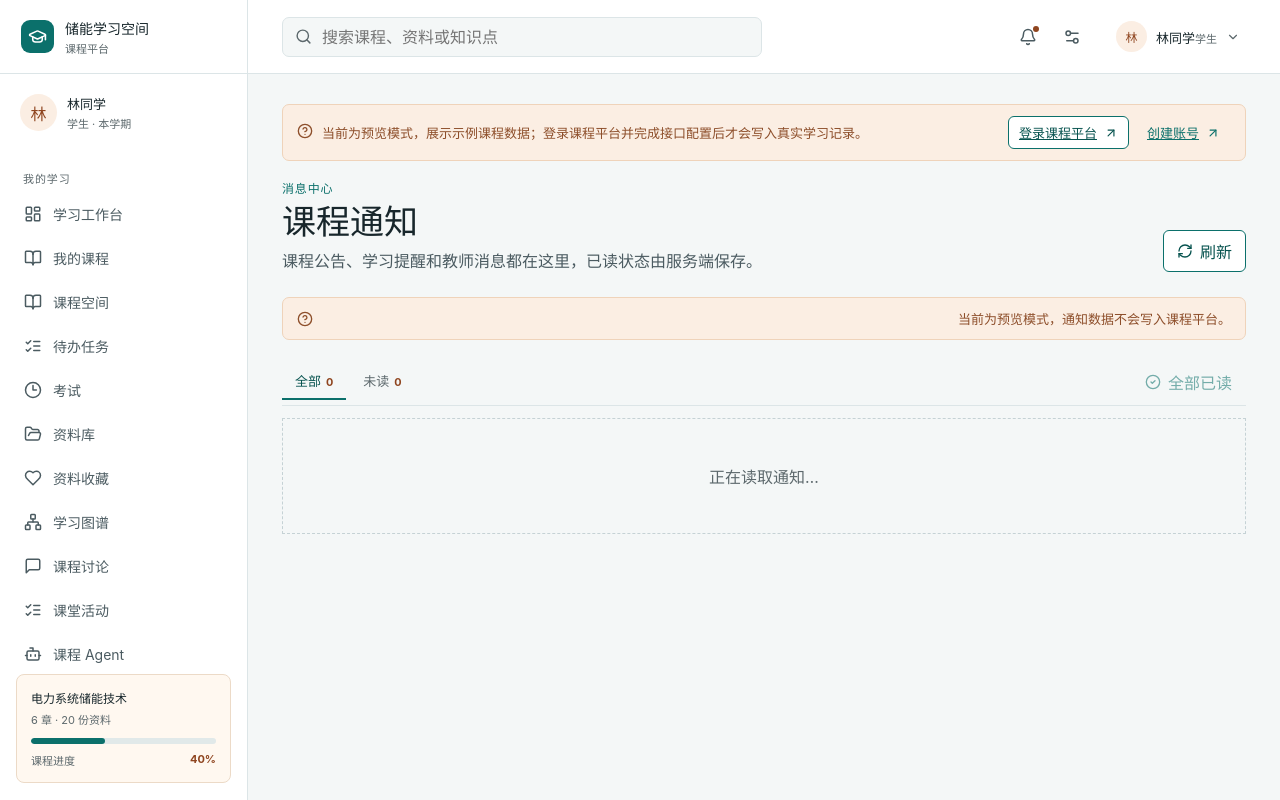
Scenario: learning platform component › component message center filters unread notices and updates the global indicator
Expected: the heading "课程通知" is shown, [282,201,418,242]
Expected: the button named "消息通知，1 条未读" is shown, [1010,18,1047,55]
Click the tab "未读0" at (382,382), box [350,363,415,400]
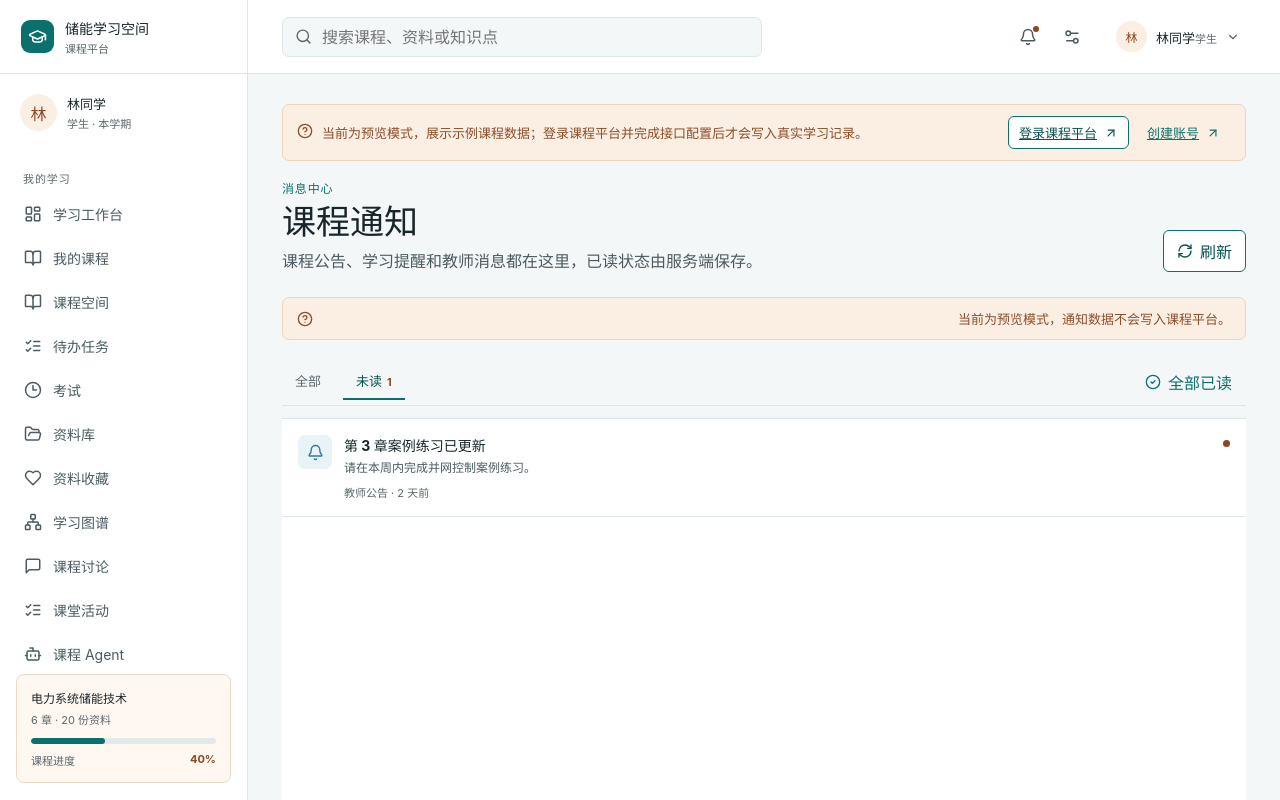
Click the button with aria-label "第 3 章案例练习已更新，标为已读" at (315,452), box [282,419,1246,517]
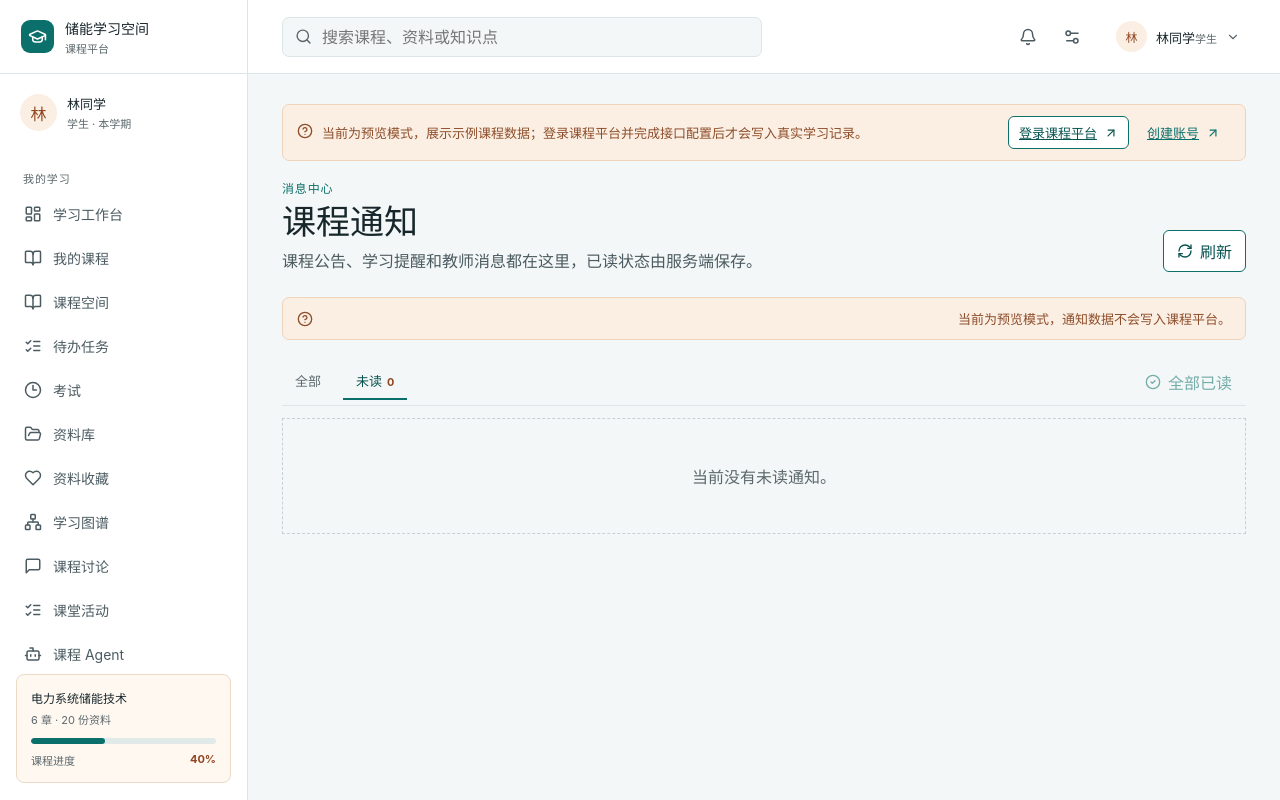
Expected: the button named "消息通知" is shown, [1010,18,1047,55]
Now the text "当前没有未读通知。" is shown, box [282,418,1246,534]
Now the button "全部已读" is disabled, box [1131,361,1246,403]
Click the tab "全部" at (310,382), box [282,363,339,400]
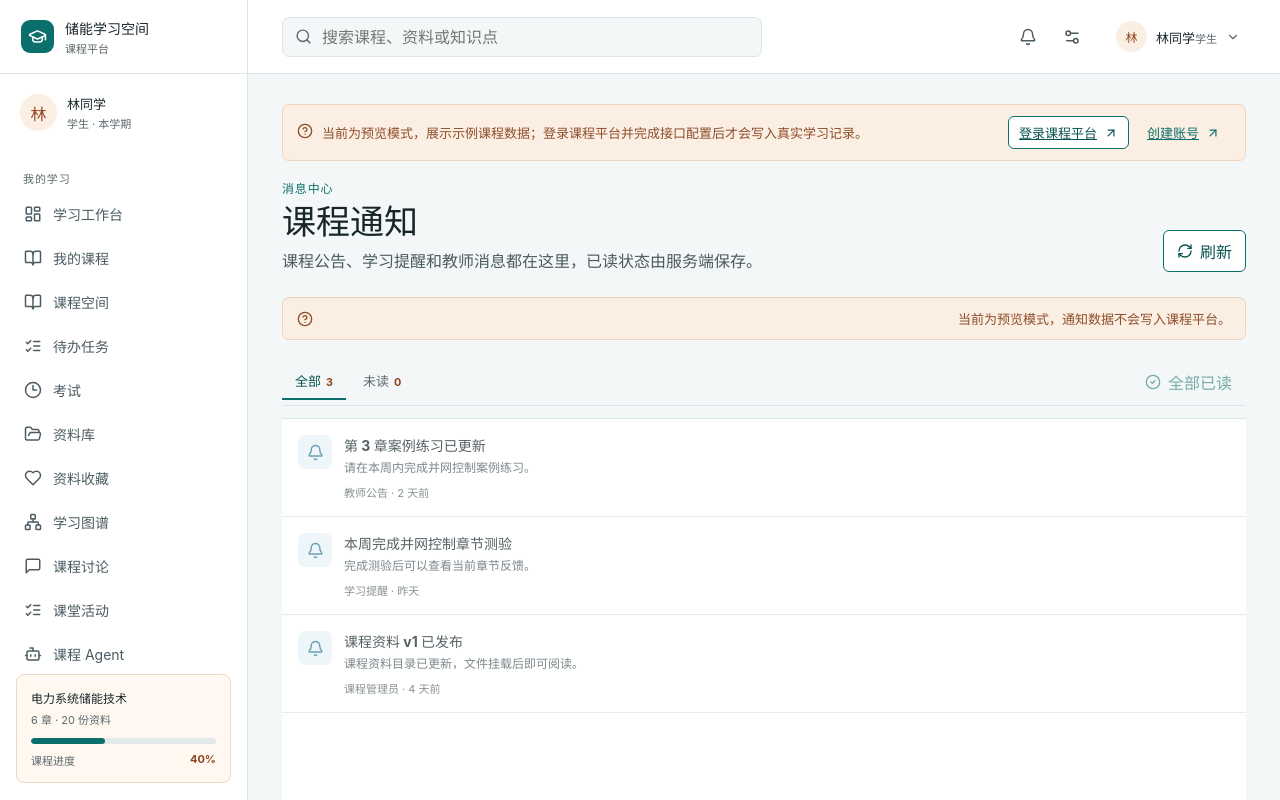
Now the button with aria-label "第 3 章案例练习已更新，已读" is disabled, box [282,419,1246,517]
